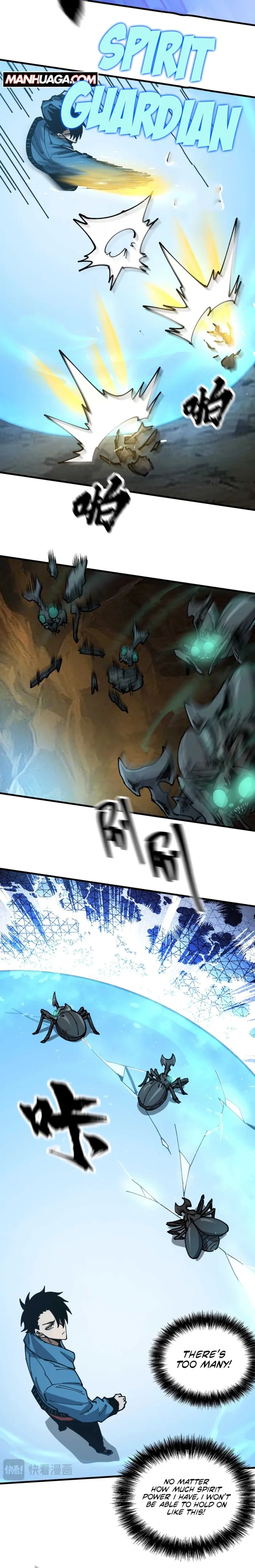bubbles: (106, 1429, 255, 1562), (146, 1309, 255, 1413)
